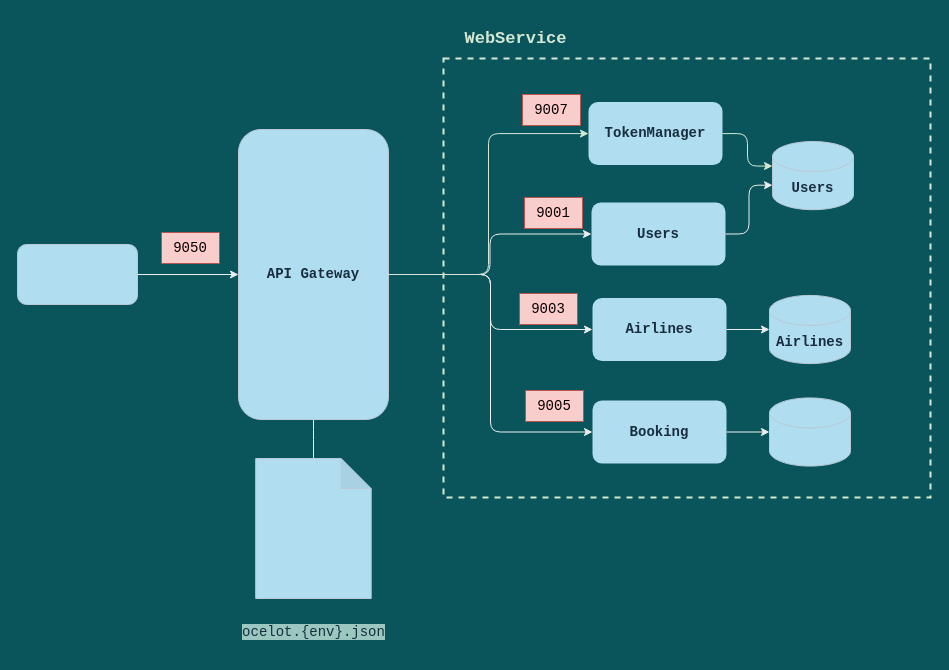
Image size: 949x670. Some labels were removed from this diagram. The shapes that lost their labels are listed below. From the top down, each one's box as (x1, y1, x2, y2) in pixels, then its label:
(16, 244, 138, 304): request
(768, 397, 850, 466): Bookings
(255, 458, 371, 598): ROUTES : users->9001 airlines->9003 ........... ...........
